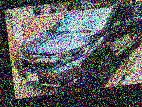car: (9, 1, 142, 94)
